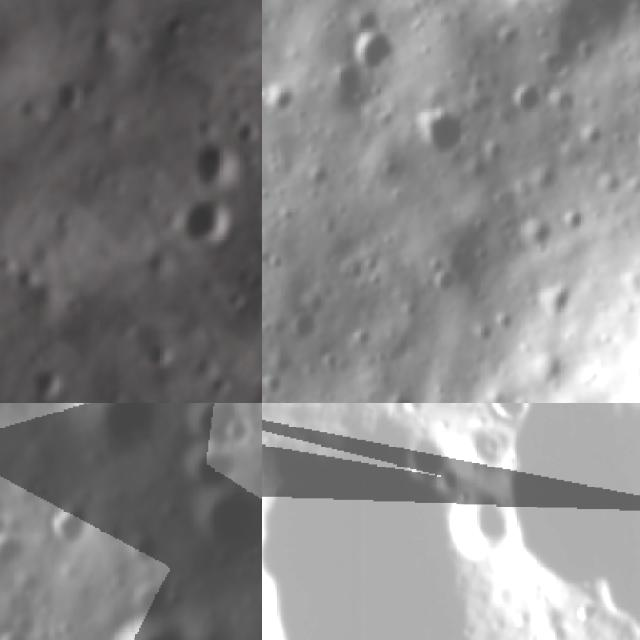crater: (165, 178, 248, 260), (174, 132, 254, 212), (90, 403, 164, 459), (442, 500, 508, 560), (203, 484, 260, 547), (15, 354, 83, 403), (37, 68, 94, 125), (135, 330, 189, 384), (416, 108, 471, 157), (352, 23, 400, 74), (180, 448, 246, 483), (95, 619, 202, 640), (182, 403, 243, 435), (406, 438, 448, 482), (537, 282, 576, 326), (56, 501, 90, 549), (264, 84, 302, 120), (520, 213, 558, 249), (133, 582, 170, 616), (288, 305, 321, 343), (512, 80, 543, 116), (132, 529, 163, 564), (0, 539, 29, 576), (304, 160, 338, 190), (5, 611, 34, 640), (492, 403, 525, 427), (562, 208, 590, 236), (103, 573, 134, 597), (434, 271, 461, 296), (229, 421, 258, 444), (341, 260, 366, 286), (360, 250, 387, 274), (378, 389, 417, 403), (172, 588, 192, 611), (0, 513, 9, 530)
